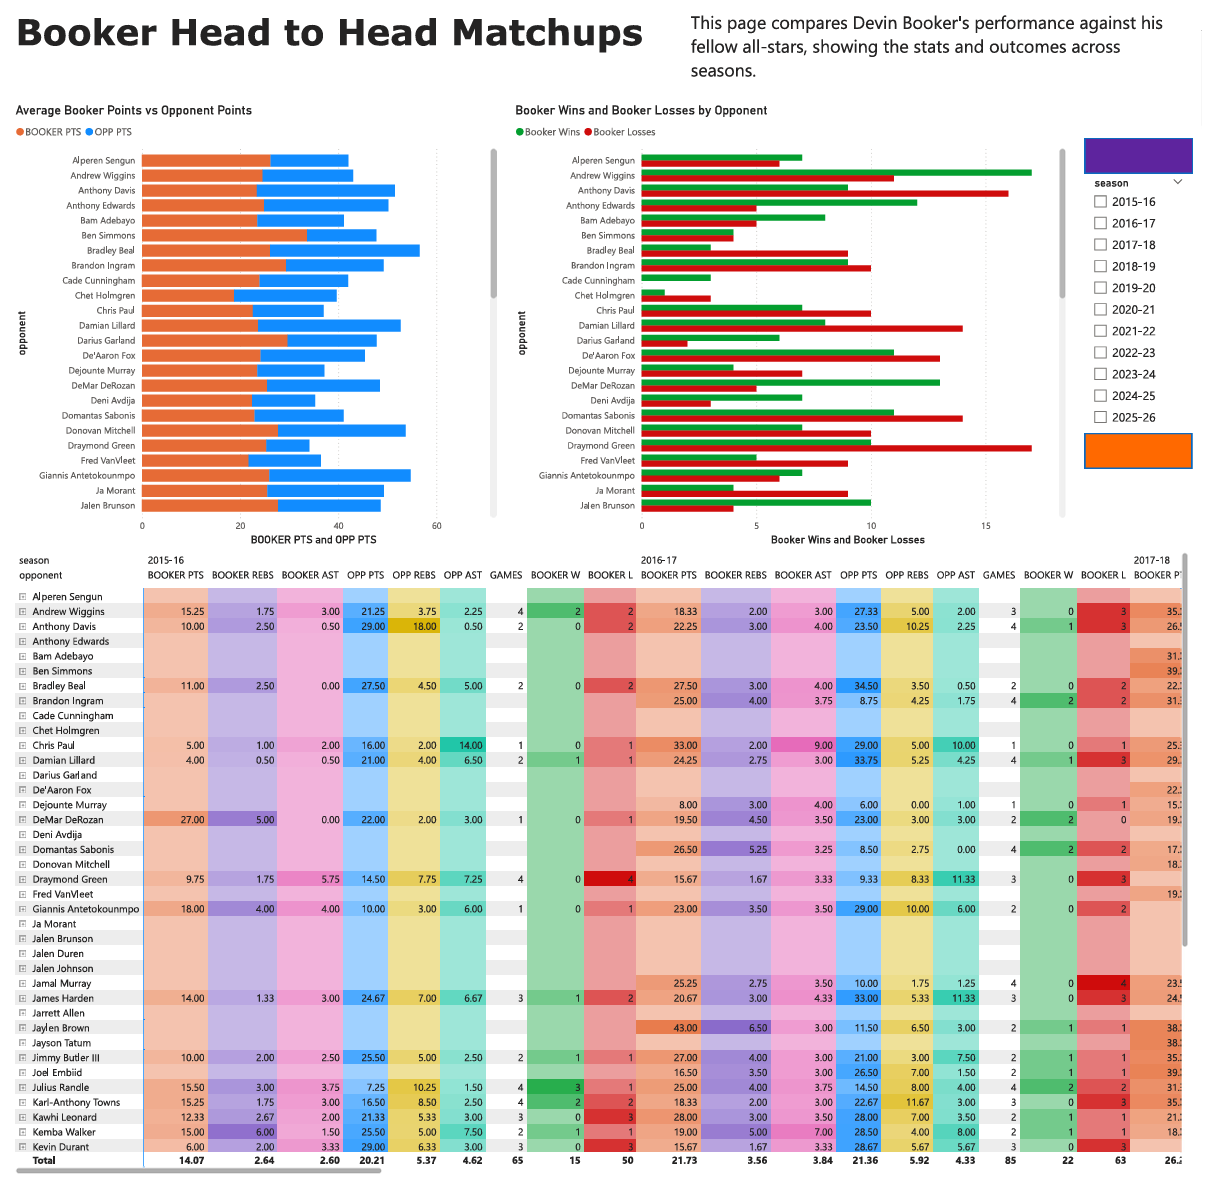

This screenshot's page, from the dashboard's own definition file:
{"tool":"powerbi","page":{"name":"Page 3","canvas":[1600,1600],"ordinal":2},"visuals":[{"type":"pivotTable","fields":{"Rows":["public mart_booker_head_to_head_by_season.opponent","public mart_booker_head_to_head_by_season.context"],"Values":["Avg(public mart_booker_head_to_head_by_season.booker_pts_pg)","Avg(public mart_booker_head_to_head_by_season.booker_reb_pg)","Avg(public mart_booker_head_to_head_by_season.booker_ast_pg)","Avg(public mart_booker_head_to_head_by_season.opp_pts_pg)","Avg(public mart_booker_head_to_head_by_season.opp_reb_pg)","Avg(public mart_booker_head_to_head_by_season.opp_ast_pg)","Sum(public mart_booker_head_to_head_by_season.games)","Sum(public mart_booker_head_to_head_by_season.booker_wins)","Sum(public mart_booker_head_to_head_by_season.booker_losses)"],"Columns":["public mart_booker_head_to_head_by_season.season"]},"box":[0,730,1587.1,845.7],"z":0},{"type":"clusteredBarChart","title":"Booker Wins and Booker Losses by Opponent","fields":{"Category":["public mart_booker_head_to_head_by_season.opponent","public mart_booker_head_to_head_by_season.context"],"Y":["Sum(public mart_booker_head_to_head_by_season.booker_wins)","Sum(public mart_booker_head_to_head_by_season.booker_losses)"]},"box":[671.7,130,750,600],"z":1000},{"type":"barChart","title":"Average Booker Points vs Opponent Points","fields":{"Category":["public mart_booker_head_to_head_by_season.opponent","public mart_booker_head_to_head_by_season.context"],"Y":["Avg(public mart_booker_head_to_head_by_season.booker_pts_pg)","Avg(public mart_booker_head_to_head_by_season.opp_pts_pg)"]},"box":[0,130,656.7,600],"z":2000},{"type":"textbox","box":[0,0,872.5,103.8],"z":3000},{"type":"textbox","box":[907.5,0,680,130],"z":4000},{"type":"slicer","fields":{"Values":["public mart_booker_head_to_head_by_season.season"]},"box":[1443.3,225,143.3,350],"z":4001},{"type":"shape","box":[1443.3,575,143.3,46.7],"z":4002},{"type":"shape","box":[1443.3,178.3,145,46.7],"z":4003}]}

Visuals, with their boxes in screenshot pixels (x1, y1, x2, y2), scaled from the page's 1600x1600 canvas onto the 1206x1180 screenshot:
pivotTable - public mart_booker_head_to_head_by_season.opponent x public mart_booker_head_to_head_by_season.context: Rect(0, 538, 1196, 1162)
"Booker Wins and Booker Losses by Opponent" clusteredBarChart: Rect(506, 96, 1072, 538)
"Average Booker Points vs Opponent Points" barChart: Rect(0, 96, 495, 538)
textbox: Rect(0, 0, 658, 77)
textbox: Rect(684, 0, 1197, 96)
slicer - public mart_booker_head_to_head_by_season.season: Rect(1088, 166, 1196, 424)
shape: Rect(1088, 424, 1196, 459)
shape: Rect(1088, 131, 1197, 166)
